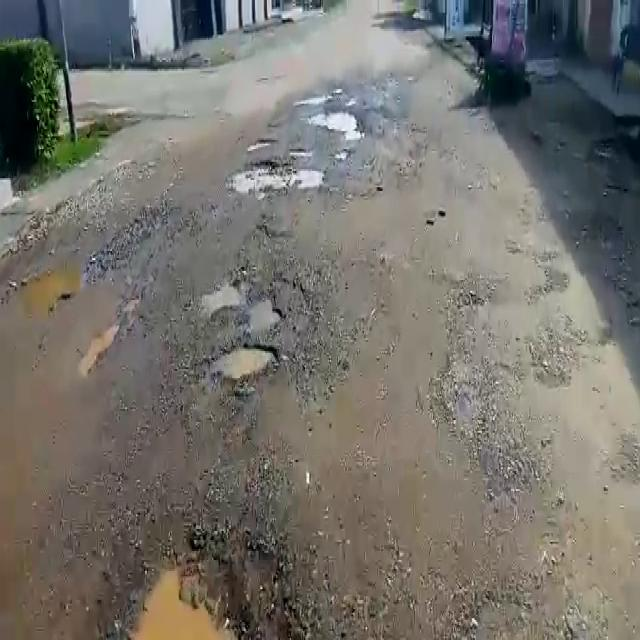Pothole: (128, 570, 238, 640), (202, 283, 284, 330), (229, 155, 321, 194), (210, 339, 282, 384), (306, 105, 364, 134), (248, 133, 280, 147)
